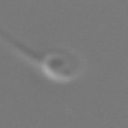normal: (1, 28, 43, 66)
